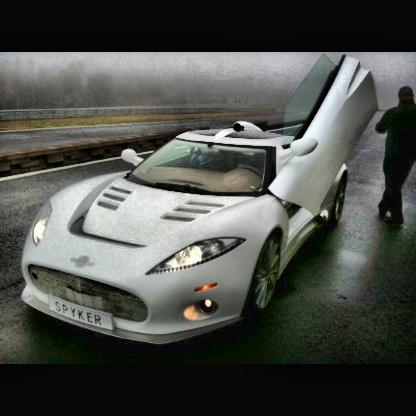Spyker C8 Coupe 2009: (23, 54, 381, 348)
